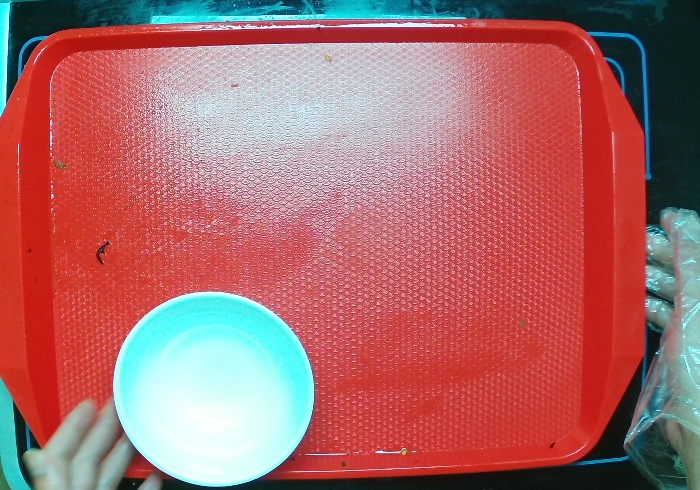YKMZ-Fan_Wan: (113, 287, 317, 490)
